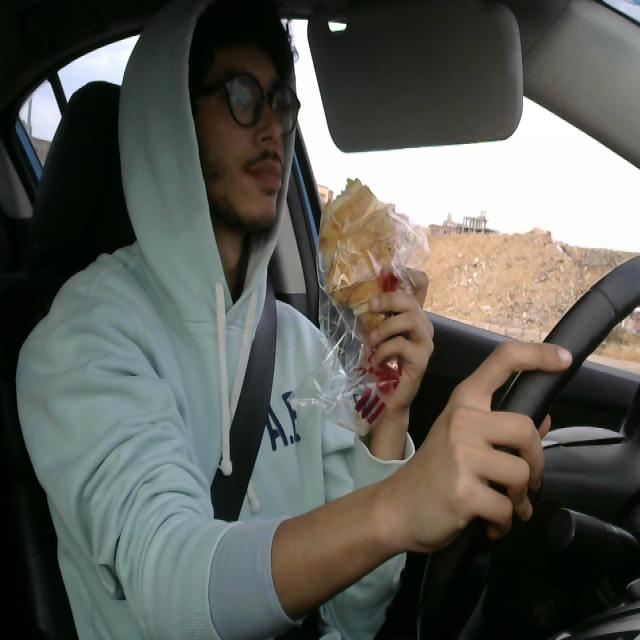eating: (314, 164, 406, 343)
